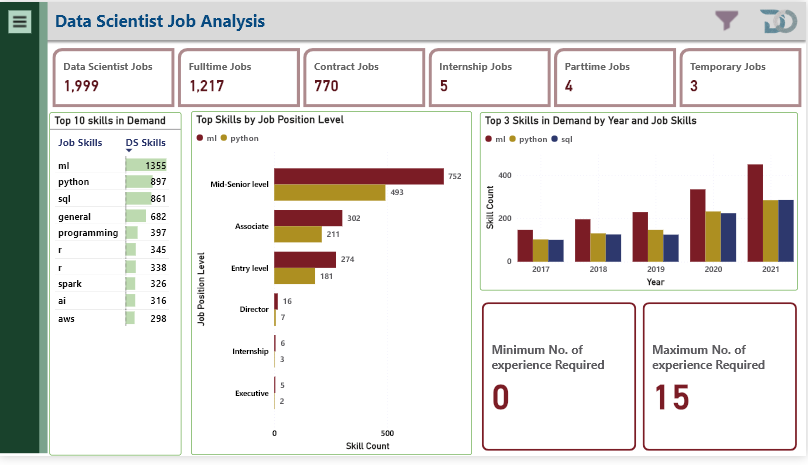

What the dashboard file says about the page in this screenshot:
{"tool":"powerbi","page":{"name":"Data Scientist Analysis","canvas":[1280,720],"ordinal":3},"visuals":[{"type":"actionButton","title":"Filter","box":[1130,7.1,51.4,47.1],"z":0},{"type":"cardVisual","title":"Basic Stats","fields":{"Data":["Key_measures.Data Scientist Jobs","Key_measures.FT_DS","Key_measures.C_DS","Key_measures.IN_DS","Key_measures.PT_DS","Key_measures.T_DS"]},"box":[80.3,68.4,1199.2,104.2],"z":0,"group":"g1"},{"type":"group","id":"g1","title":"DS_Visualizations","box":[80.3,7.4,1199.2,712.7],"z":1000},{"type":"textbox","box":[83.3,7.4,369,47.6],"z":1000,"group":"g1"},{"type":"tableEx","title":"Top 10 skills in Demand","fields":{"Values":["job_skill_list.Job Skills","Key_measures.DS Skills"]},"box":[80.3,175.5,209.8,544.6],"z":2000,"group":"g1"},{"type":"actionButton","title":"Menu","box":[14.5,13,36.2,36.2],"z":3000},{"type":"clusteredColumnChart","title":"Top 3 Skills in Demand by Year and Job Skills","fields":{"Category":["DimDate.Year"],"Series":["job_skill_list.Job Skills"],"Y":["Key_measures.DS Skills"]},"box":[763.2,175.5,504.4,282.7],"z":3000,"group":"g1"},{"type":"clusteredBarChart","title":"Top Skills by Job Position Level","fields":{"Category":["job_postings.Job Position Level"],"Series":["job_skill_list.Job Skills"],"Y":["Key_measures.DS Skills"]},"box":[304.7,174.4,446.2,545.3],"z":4000,"group":"g1"},{"type":"cardVisual","fields":{"Data":["Key_measures.MinDS","Key_measures.MaxDS"]},"box":[761.8,473.1,510.3,247],"z":5000,"group":"g1"}]}

Visuals, with their boxes in screenshot pixels (x1, y1, x2, y2), scaled from the page's 1280x720 canvas onto the 808x465 screenshot:
"Filter" actionButton: (left=713, top=5, right=746, bottom=35)
"Basic Stats" cardVisual: (left=51, top=44, right=807, bottom=111)
"DS_Visualizations" group: (left=51, top=5, right=807, bottom=464)
textbox: (left=53, top=5, right=286, bottom=36)
"Top 10 skills in Demand" tableEx: (left=51, top=113, right=183, bottom=464)
"Menu" actionButton: (left=9, top=8, right=32, bottom=32)
"Top 3 Skills in Demand by Year and Job Skills" clusteredColumnChart: (left=482, top=113, right=800, bottom=296)
"Top Skills by Job Position Level" clusteredBarChart: (left=192, top=113, right=474, bottom=464)
cardVisual - Key_measures.MinDS x Key_measures.MaxDS: (left=481, top=306, right=803, bottom=464)
